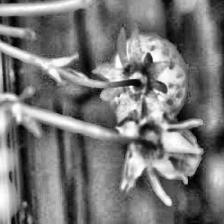Gray Mold: (82, 112, 204, 207)
